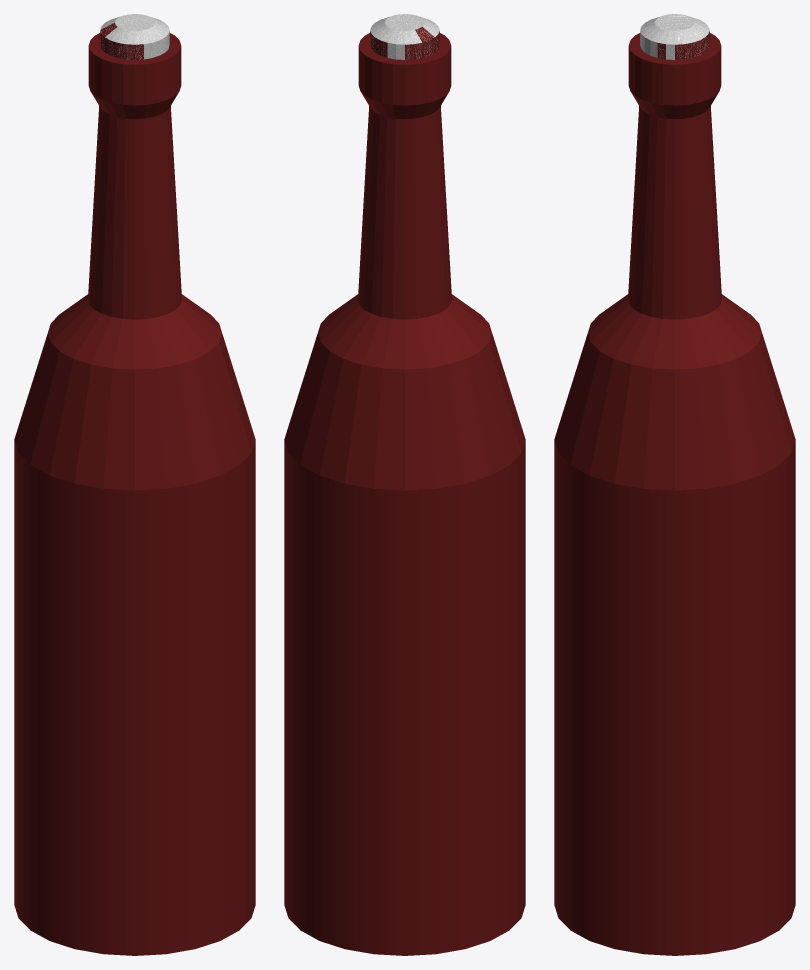
The picture shows the model from 3 angles, left to right: view 1: azimuth 30°, elevation 25°; view 2: azimuth 150°, elevation 25°; view 3: azimuth 270°, elevation 25°; orthographic projection.
Parts seen in each view (by area): view 1: mesh1_mesh1-geometry; view 2: mesh1_mesh1-geometry; view 3: mesh1_mesh1-geometry.
Boxes of the visible parts, <box> form: mesh1_mesh1-geometry: <box>14,14,255,955</box>; mesh1_mesh1-geometry: <box>284,14,525,955</box>; mesh1_mesh1-geometry: <box>554,14,795,955</box>.
Bounding box in the file's own units: 0.2339 × 0.9437 × 0.2339.
